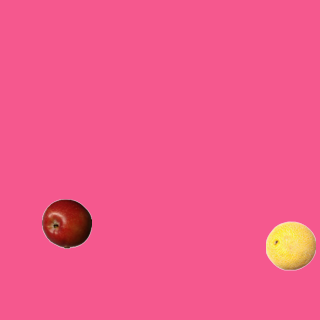Apple Braeburn: (41, 198, 91, 248)
Cantaloupe 1: (265, 220, 315, 270)
